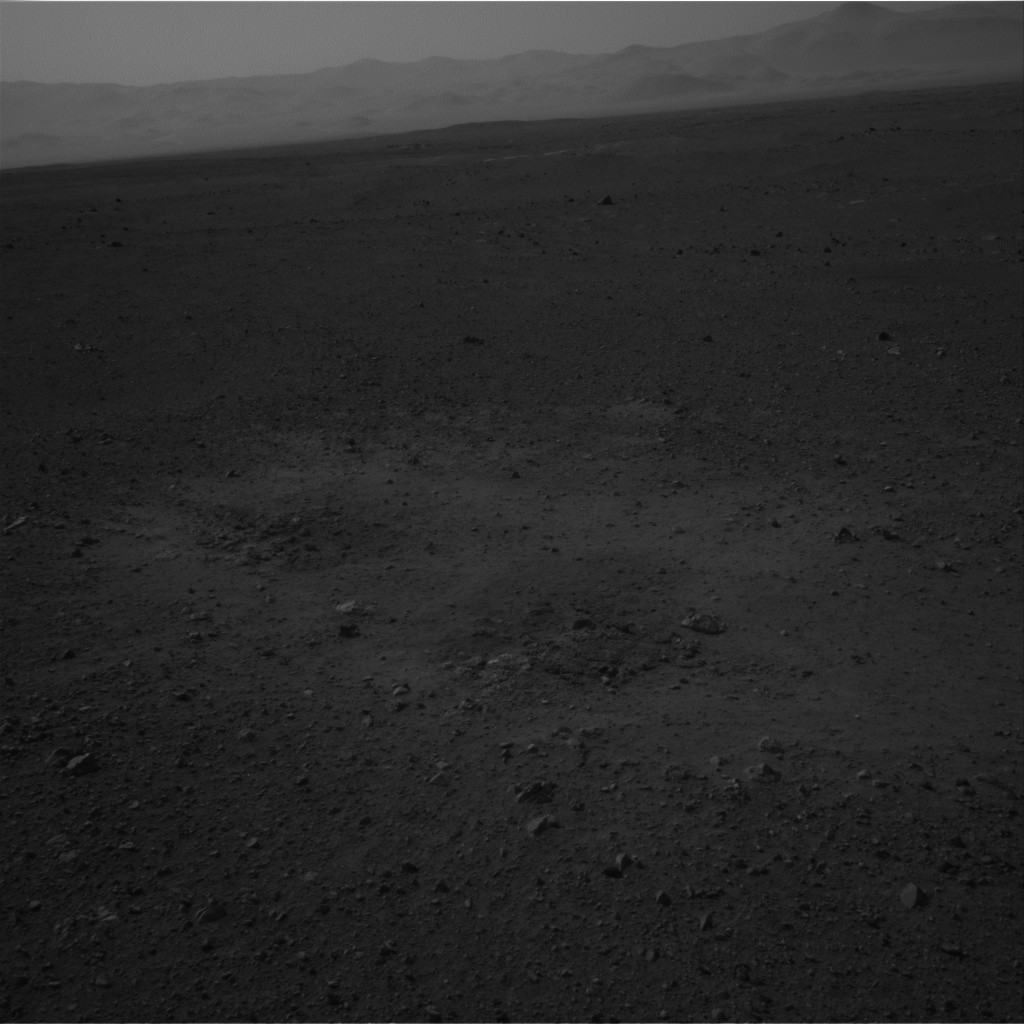soil: (6, 258, 1017, 1017)
